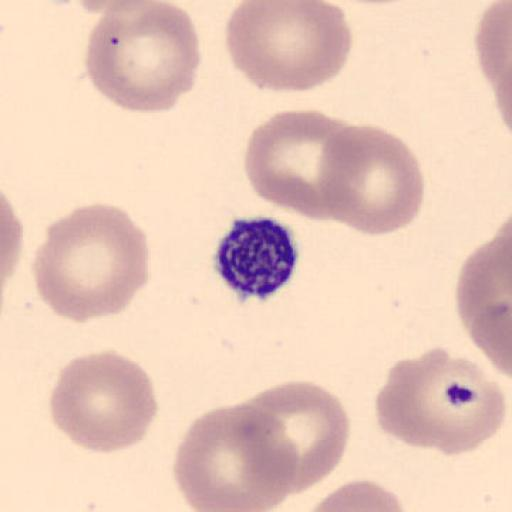Platelet: (210, 213, 302, 305)
RBC: (373, 346, 507, 457), (32, 200, 150, 324), (170, 398, 298, 512), (242, 107, 365, 222), (83, 0, 203, 116), (246, 379, 351, 497), (224, 0, 353, 95), (48, 348, 160, 456), (319, 122, 425, 236), (455, 231, 512, 377), (475, 0, 512, 138), (301, 476, 408, 512), (72, 0, 190, 23), (0, 189, 24, 292), (71, 0, 162, 18)
